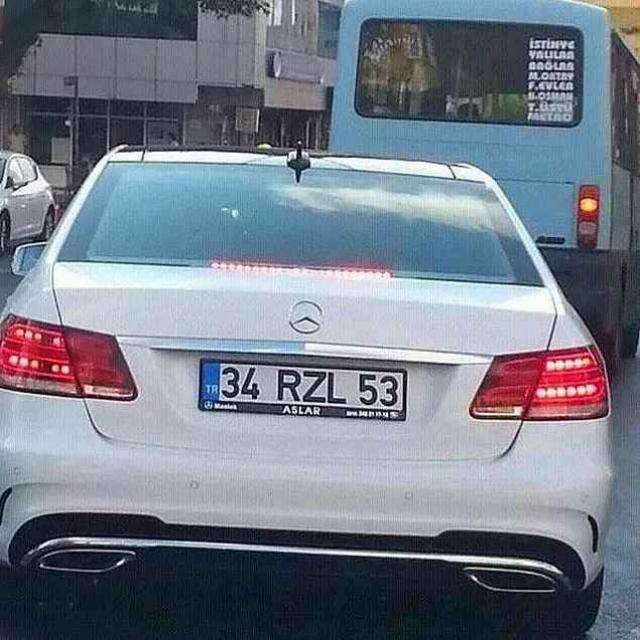plate: (197, 358, 410, 424)
